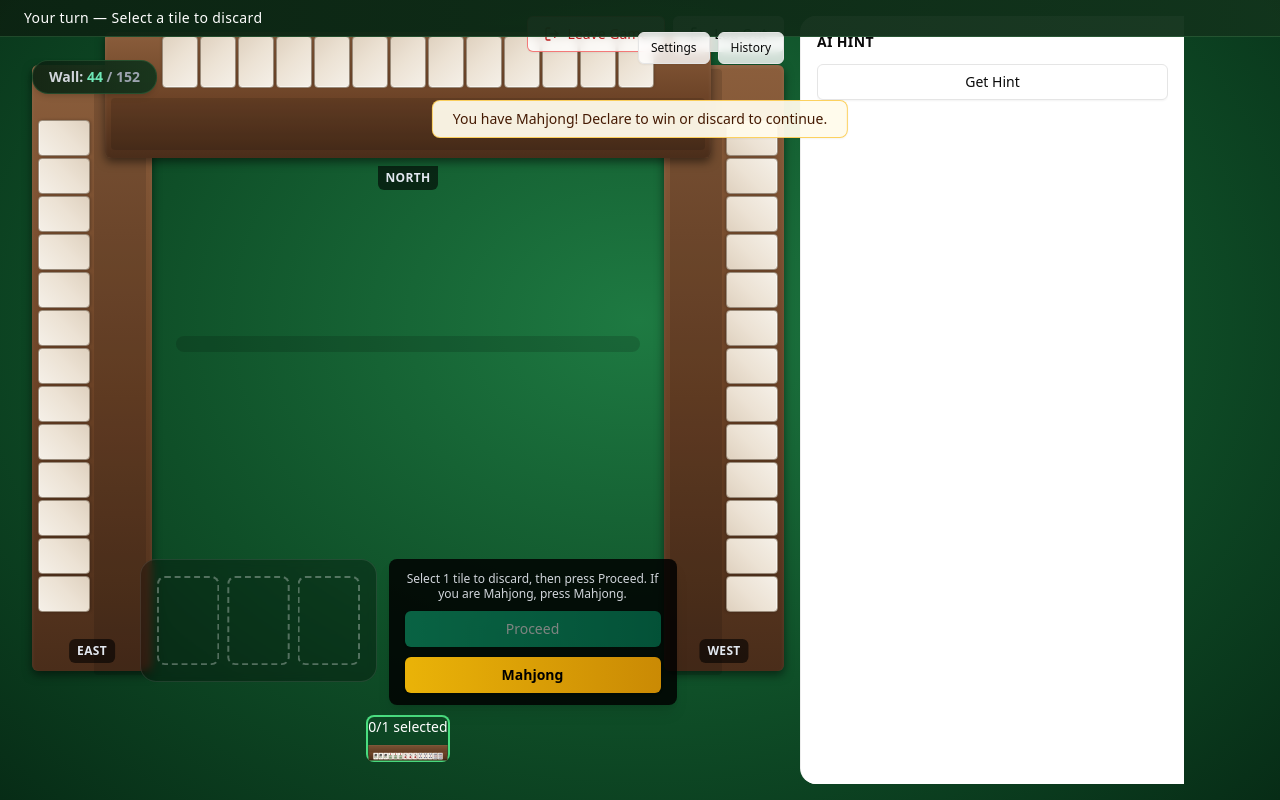
Test: US-018: Declaring Mahjong (Self-Draw) › AC-2+3: Confirmation dialog and command dispatch › opens confirmation dialog when Mahjong button clicked
This screenshot has width=1280, height=800.
Click the button with test id "declare-mahjong-button". click: (532, 675)
box: [404,657,660,693]
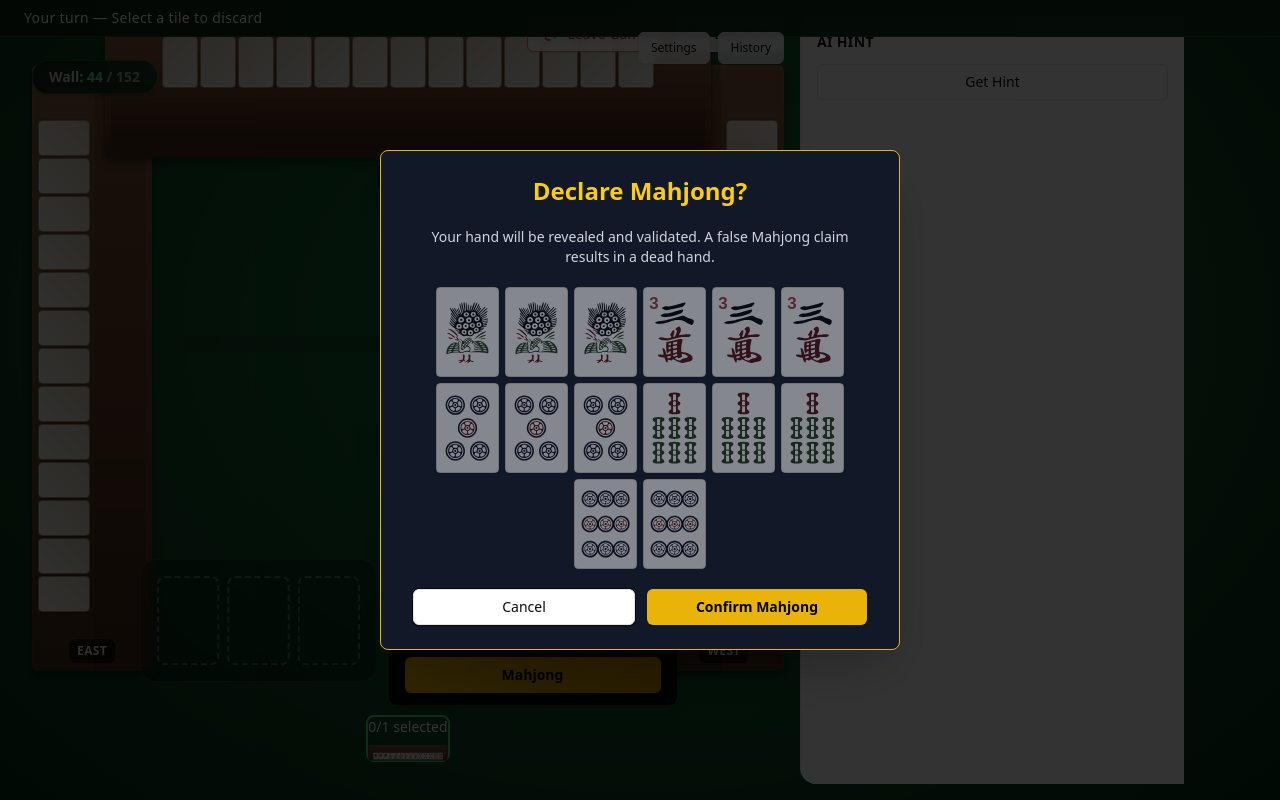
Now the dialog with test id "mahjong-confirmation-dialog" is shown, box [380,150,900,650]
